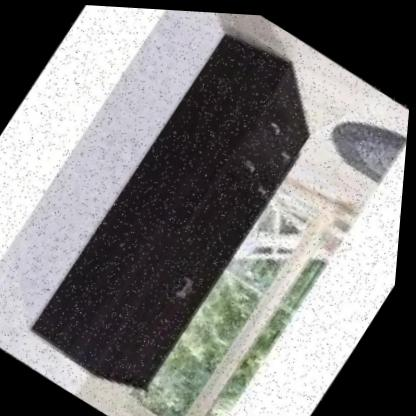Closet: (20, 2, 356, 416)
